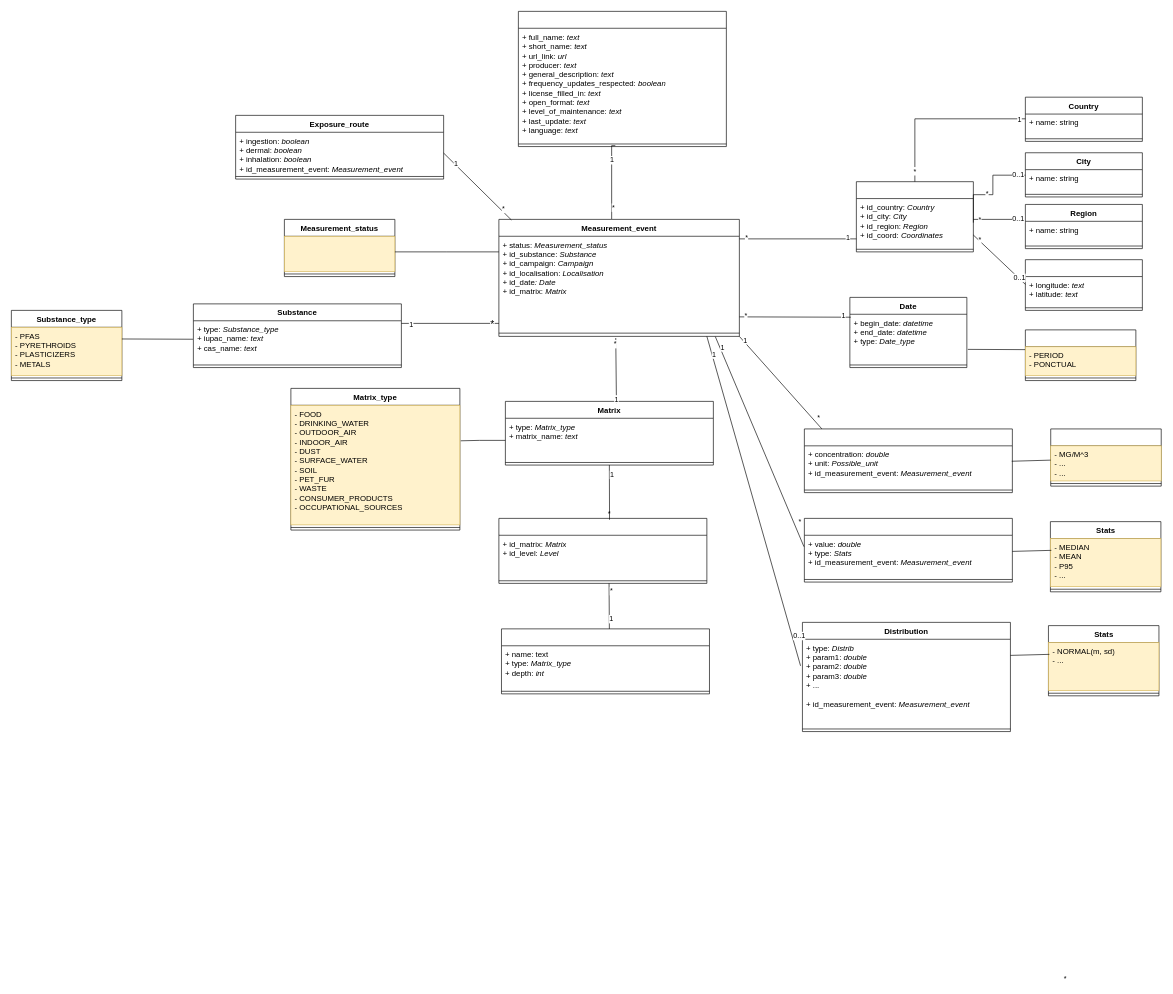
This 1173x994 diagram has some shape labels left out. The box of each missing label's shape, as (x1, y1, x2, y2) in pixels:
- NO MEASURE - MEASURE IN PROGRESS - MEASURE: (284, 236, 395, 271)
Campaign: (518, 11, 726, 147)
Coordinates: (1025, 259, 1142, 310)
Date_type: (1025, 329, 1136, 381)
Level: (501, 628, 709, 694)
Localisation: (856, 181, 973, 252)
Matrix_level: (498, 518, 707, 583)
Ponctual_value: (804, 428, 1012, 493)
Possible_unit: (1050, 428, 1161, 486)
Statistics: (804, 518, 1012, 582)
